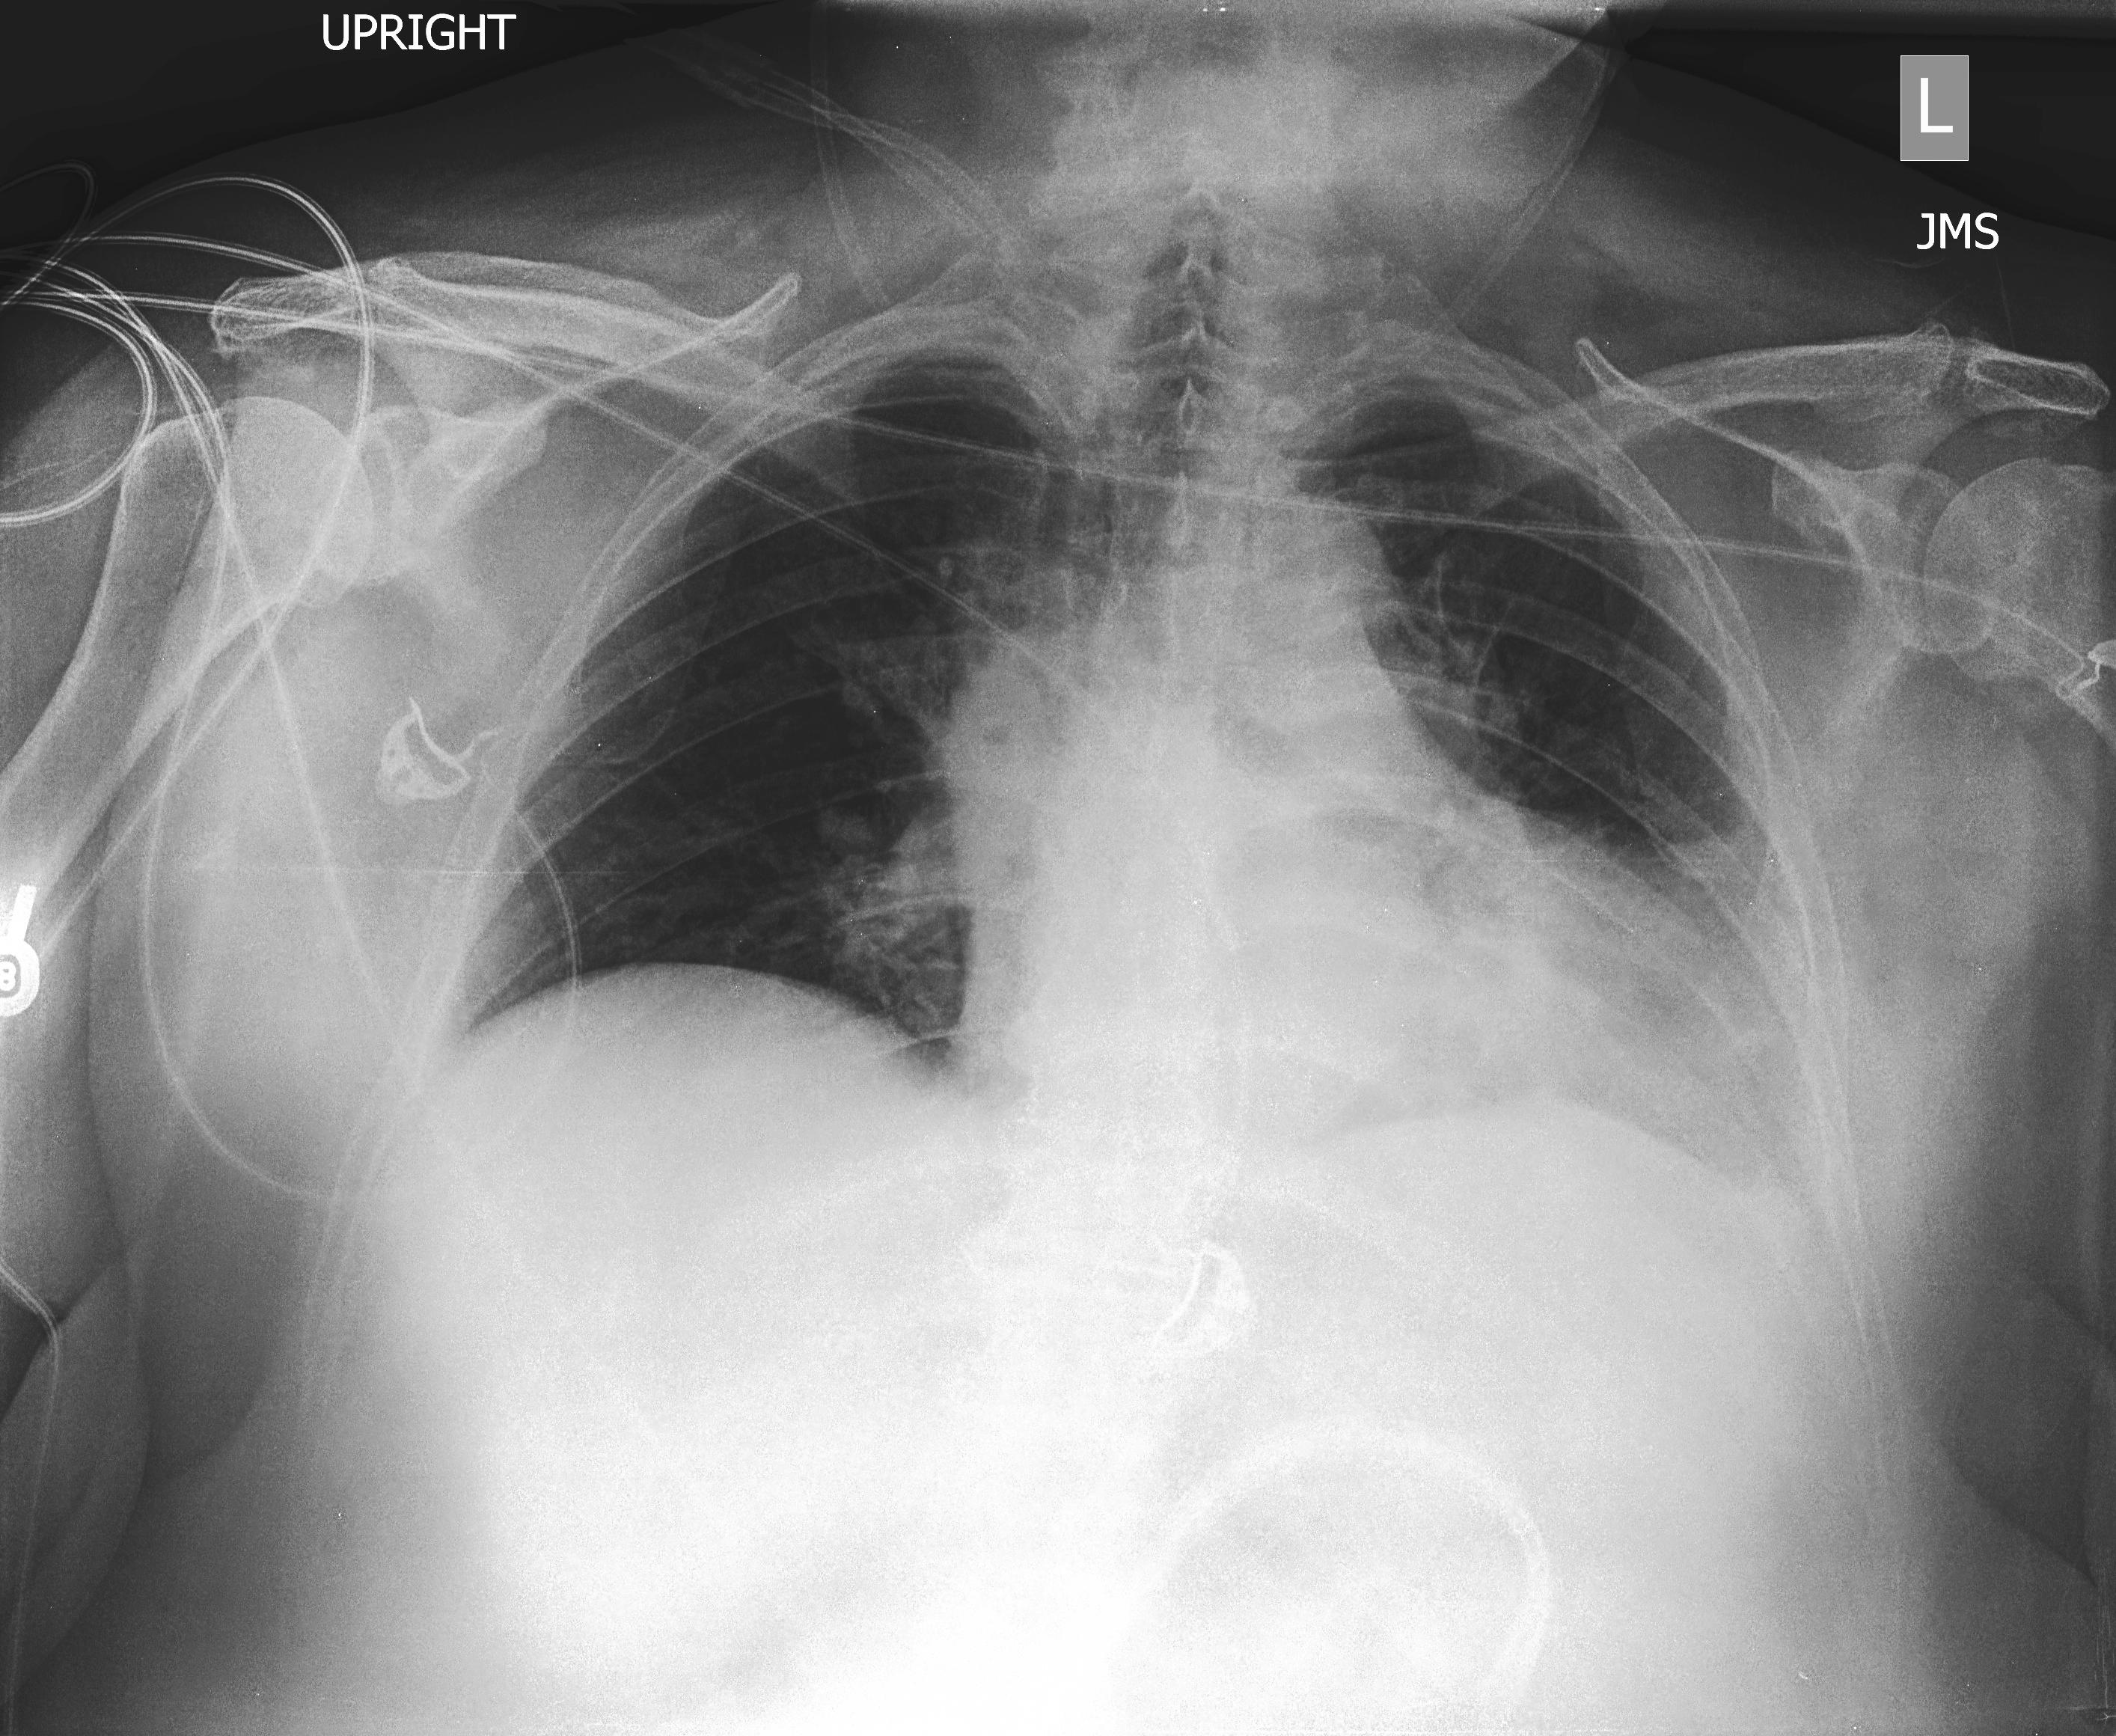Pleural Effusion: (1489, 826, 1851, 1407)
